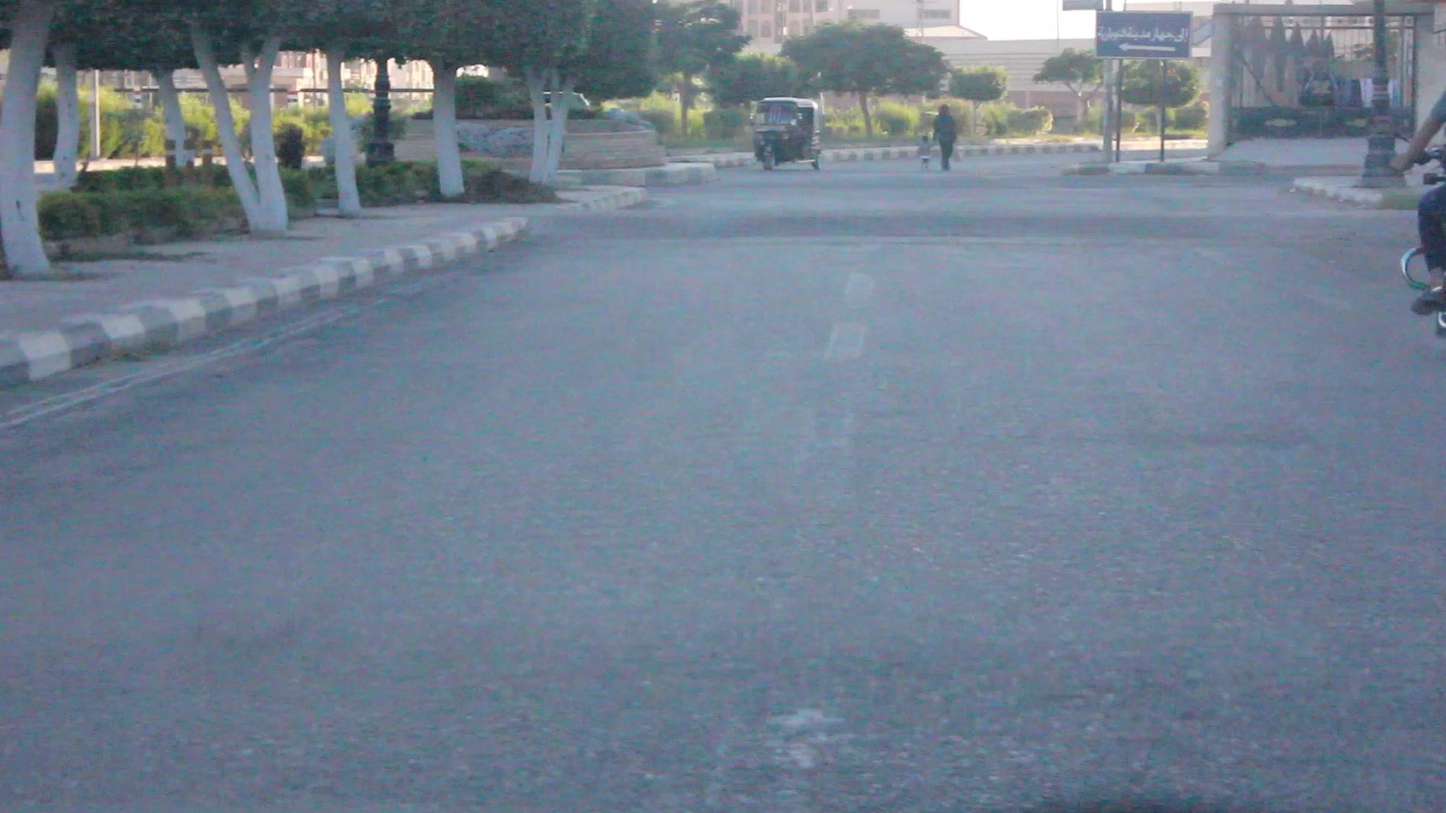Bump: (537, 213, 1378, 252)
